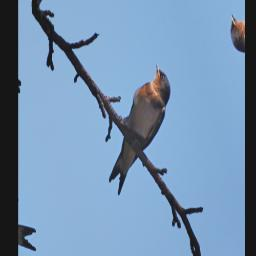Swallow: (88, 60, 189, 199)
